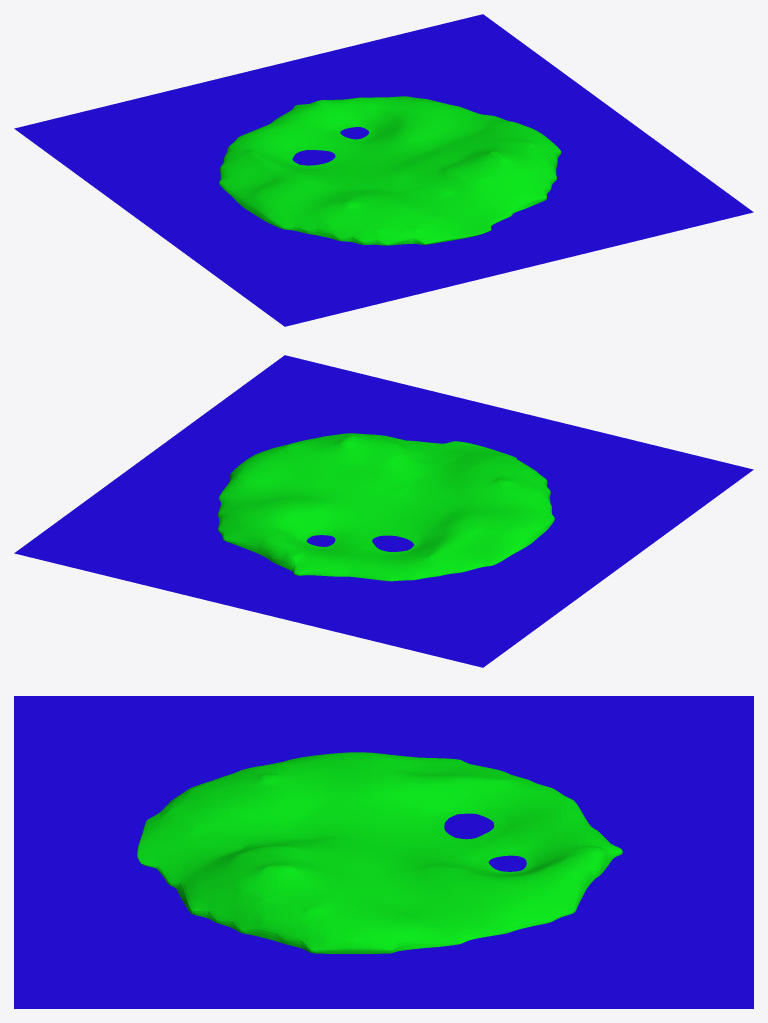
The model's file is home_island.glb.
3 renders of one model, top to bottom at view 1: azimuth 30°, elevation 25°; view 2: azimuth 150°, elevation 25°; view 3: azimuth 270°, elevation 25°, orthographic. The views are drawn at different scales.
Parts seen in each view (by area): view 1: Plane, home_island; view 2: Plane, home_island; view 3: Plane, home_island.
Boxes of the visible parts, x1=… form: Plane: x1=14, y1=14, x2=753, y2=326; home_island: x1=218, y1=96, x2=561, y2=245; Plane: x1=14, y1=355, x2=753, y2=667; home_island: x1=217, y1=433, x2=554, y2=581; Plane: x1=14, y1=696, x2=753, y2=1008; home_island: x1=137, y1=752, x2=622, y2=953.
Bounding box in the file's own units: 531 × 102 × 531.
